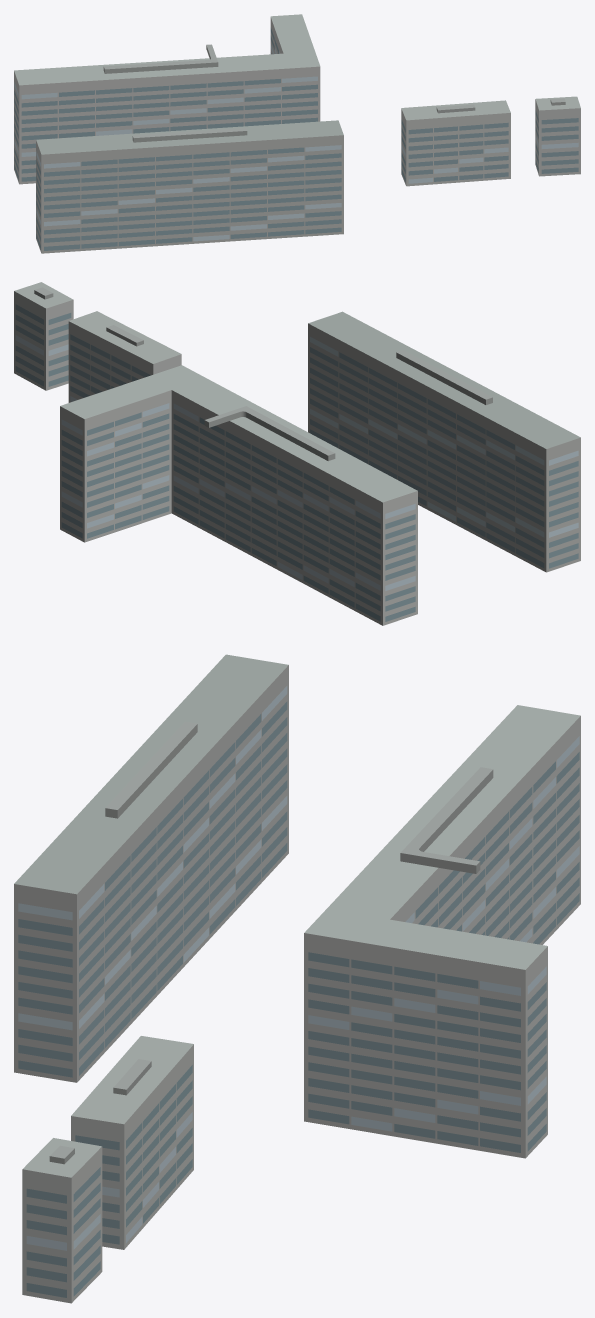
Rendered from apt-a14003003.glb.
The picture shows the model from 3 angles, top to bottom: view 1: azimuth 30°, elevation 25°; view 2: azimuth 150°, elevation 25°; view 3: azimuth 270°, elevation 25°; orthographic projection. The views are drawn at different scales.
Visible parts, largest first — view 1: apt-a14003003; view 2: apt-a14003003; view 3: apt-a14003003.
Boxes of the visible parts, box(x1,y1,x2,y2) form: apt-a14003003: box(14, 14, 580, 253); apt-a14003003: box(14, 282, 580, 625); apt-a14003003: box(14, 654, 580, 1303).
Bounding box in the file's own units: 192 × 38.25 × 99.74.
